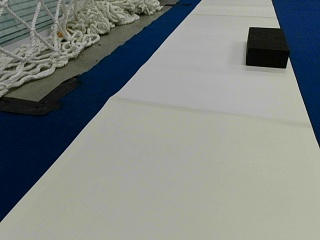block: (245, 26, 288, 68)
